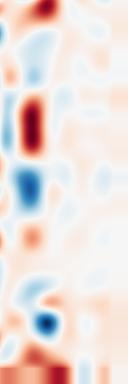filament: (16, 92, 52, 161)
